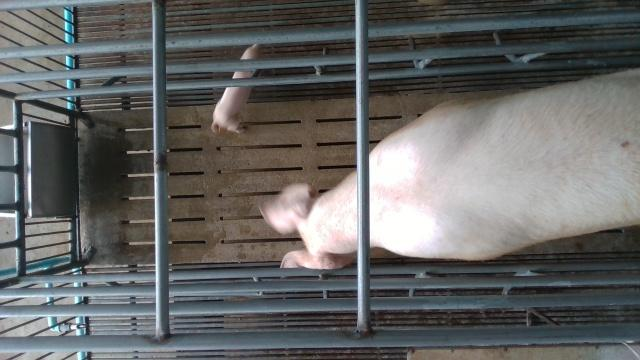piglet: (211, 42, 260, 133)
sow-stand: (258, 66, 640, 280)
